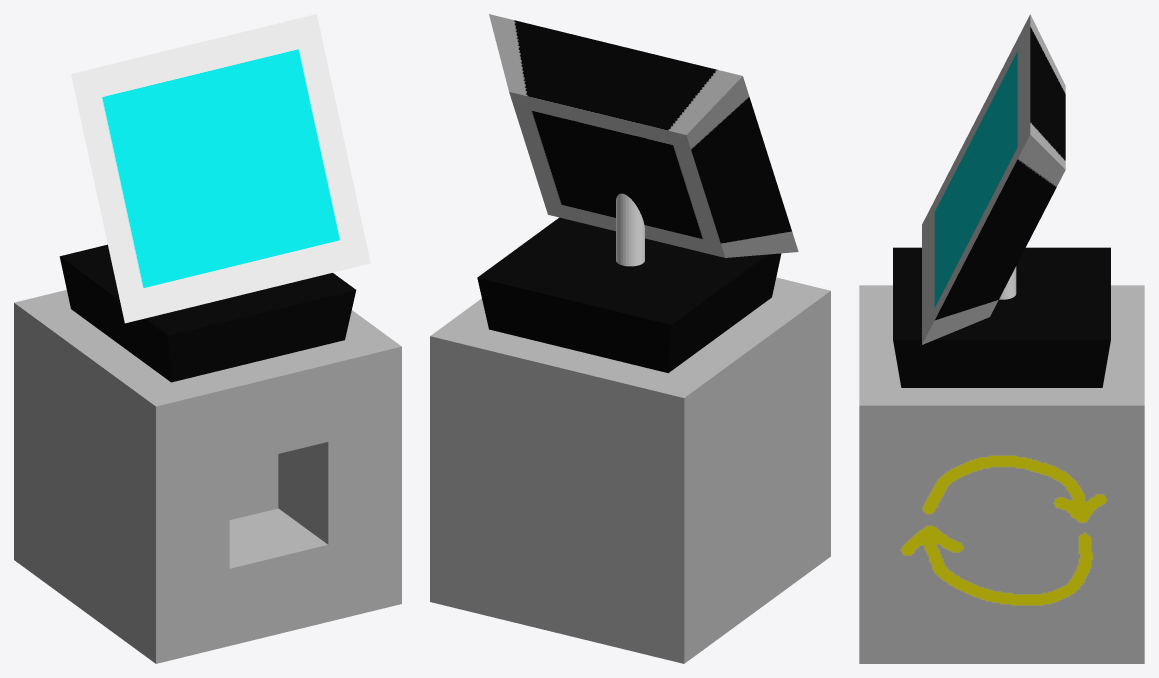
Rendered from trade_computer.gltf.
3 views of the same model, side by side, from view 1: azimuth 30°, elevation 25°; view 2: azimuth 150°, elevation 25°; view 3: azimuth 270°, elevation 25° (orthographic). The views are drawn at different scales.
Visible parts, largest first — view 1: Cube, Cube.001; view 2: Cube, Cube.001; view 3: Cube, Cube.001.
Part boxes in pixels (x1,y1,x2,y2): Cube: (14, 290, 401, 663); Cube.001: (59, 14, 370, 382); Cube: (430, 277, 830, 663); Cube.001: (477, 14, 798, 373); Cube: (859, 285, 1144, 663); Cube.001: (893, 14, 1110, 387).
Size of the model in its own units: 1.2 by 2.46 by 1.2.
Materials: 1 (1 with a texture image).
